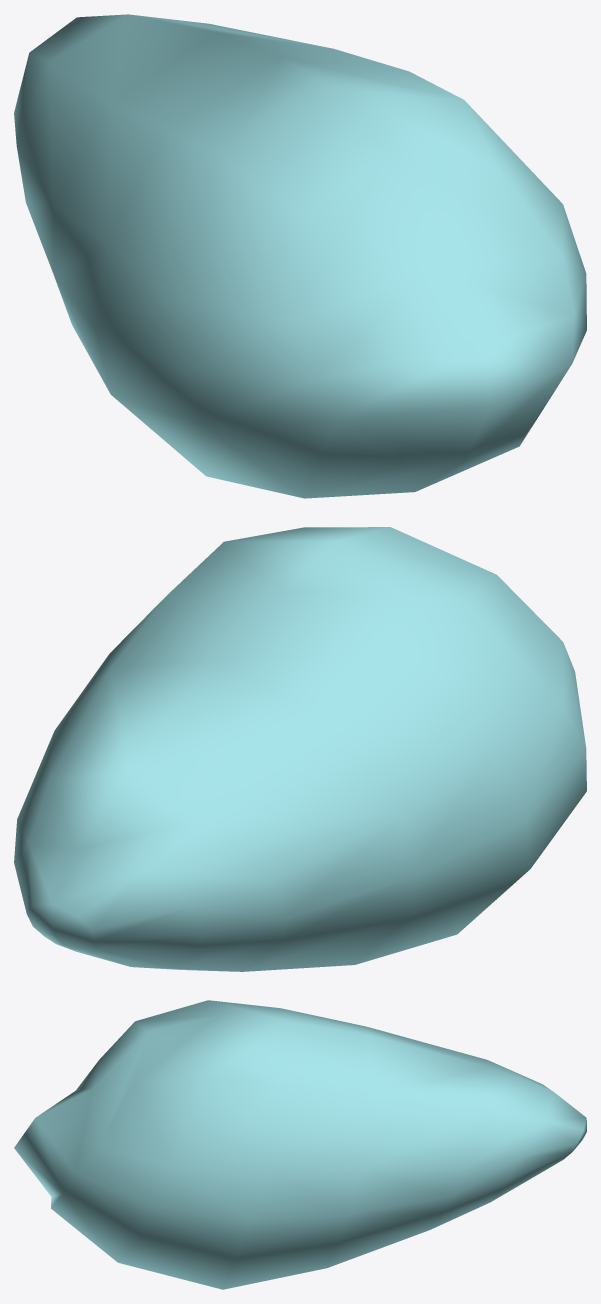
Rendered from Shrimp_Fan_Caridid.fbx.
3 renders of one model, top to bottom at view 1: azimuth 30°, elevation 25°; view 2: azimuth 150°, elevation 25°; view 3: azimuth 270°, elevation 25°, orthographic. The views are drawn at different scales.
Visible parts, largest first — view 1: Fan_low.002; view 2: Fan_low.002; view 3: Fan_low.002.
Boxes of the visible parts, left/top/right/bottom form: Fan_low.002: left=14, top=14, right=586, bottom=498; Fan_low.002: left=14, top=527, right=586, bottom=971; Fan_low.002: left=14, top=1000, right=586, bottom=1289.
Size of the model in its own units: 15.81 by 13.72 by 28.06.
